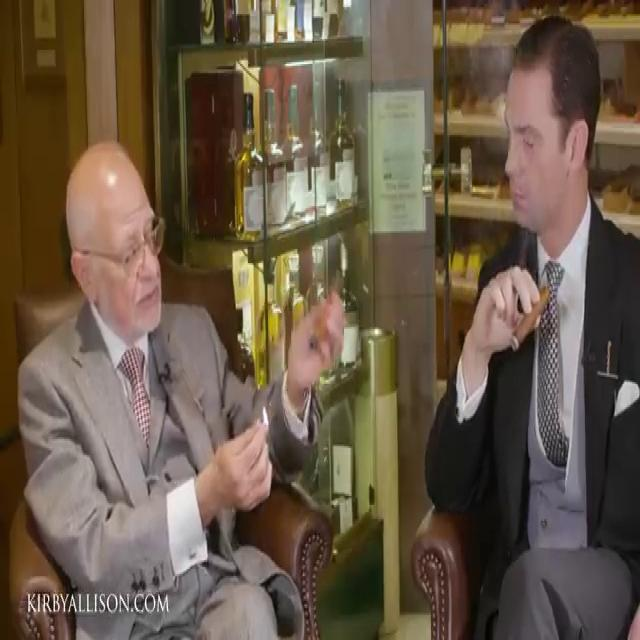Smooking: (506, 274, 552, 362)
